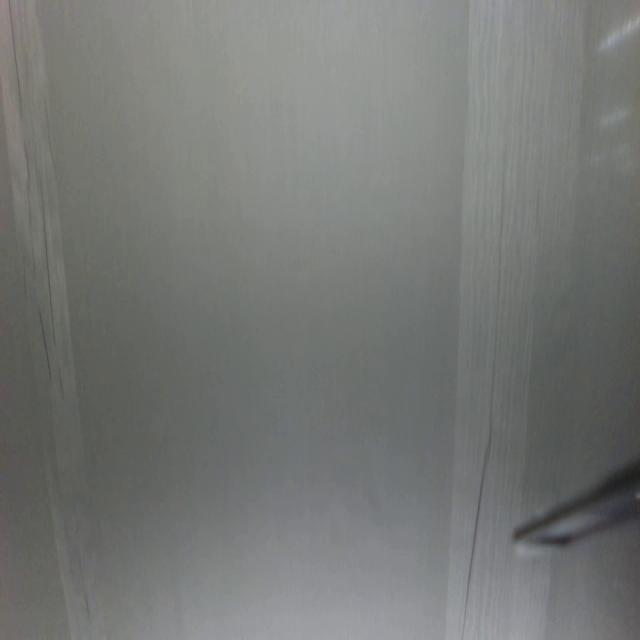crease: (1, 0, 100, 635), (449, 6, 509, 639)
